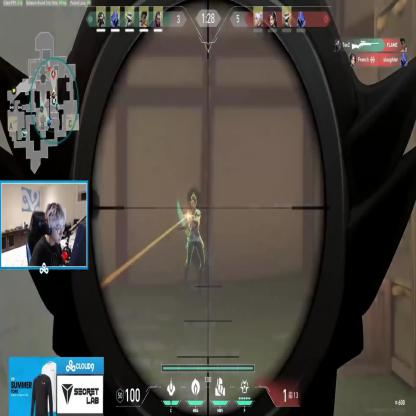enemy: (185, 195, 206, 292)
enemy_head: (190, 195, 197, 209)
